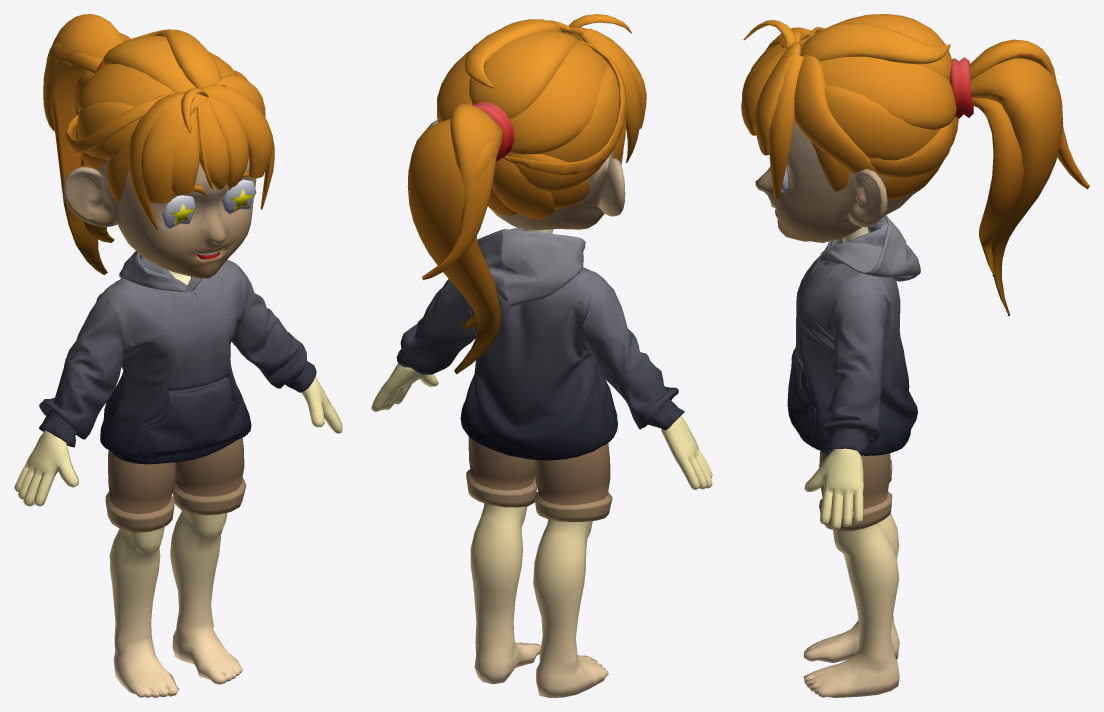
Rendered from MyAvatar.glb.
The picture shows the model from 3 angles, left to right: view 1: azimuth 30°, elevation 25°; view 2: azimuth 150°, elevation 25°; view 3: azimuth 270°, elevation 25°; orthographic projection. The views are drawn at different scales.
Parts seen in each view (by area): view 1: Hoodie, Hair, FemaleBody, Head, Pants, Eyes; view 2: Hair, Hoodie, FemaleBody, Pants, Head; view 3: Hair, Hoodie, FemaleBody, Head, Pants.
Part boxes in pixels (x1,y1,x2,y2): Hoodie: [39, 251, 316, 464]; Hair: [43, 14, 274, 274]; FemaleBody: [14, 270, 342, 697]; Head: [63, 157, 256, 278]; Pants: [105, 438, 246, 532]; Eyes: [162, 179, 256, 228]; Hair: [407, 14, 646, 374]; Hoodie: [396, 227, 684, 460]; FemaleBody: [371, 228, 712, 697]; Pants: [466, 436, 612, 521]; Head: [425, 120, 625, 230]; Hair: [741, 14, 1089, 315]; Hoodie: [787, 215, 920, 455]; FemaleBody: [803, 227, 899, 697]; Head: [755, 120, 915, 242]; Pants: [819, 450, 892, 531].
Bounding box in the file's own units: 1.27 × 2.38 × 1.15.
Materials: 1 (1 with a texture image).
